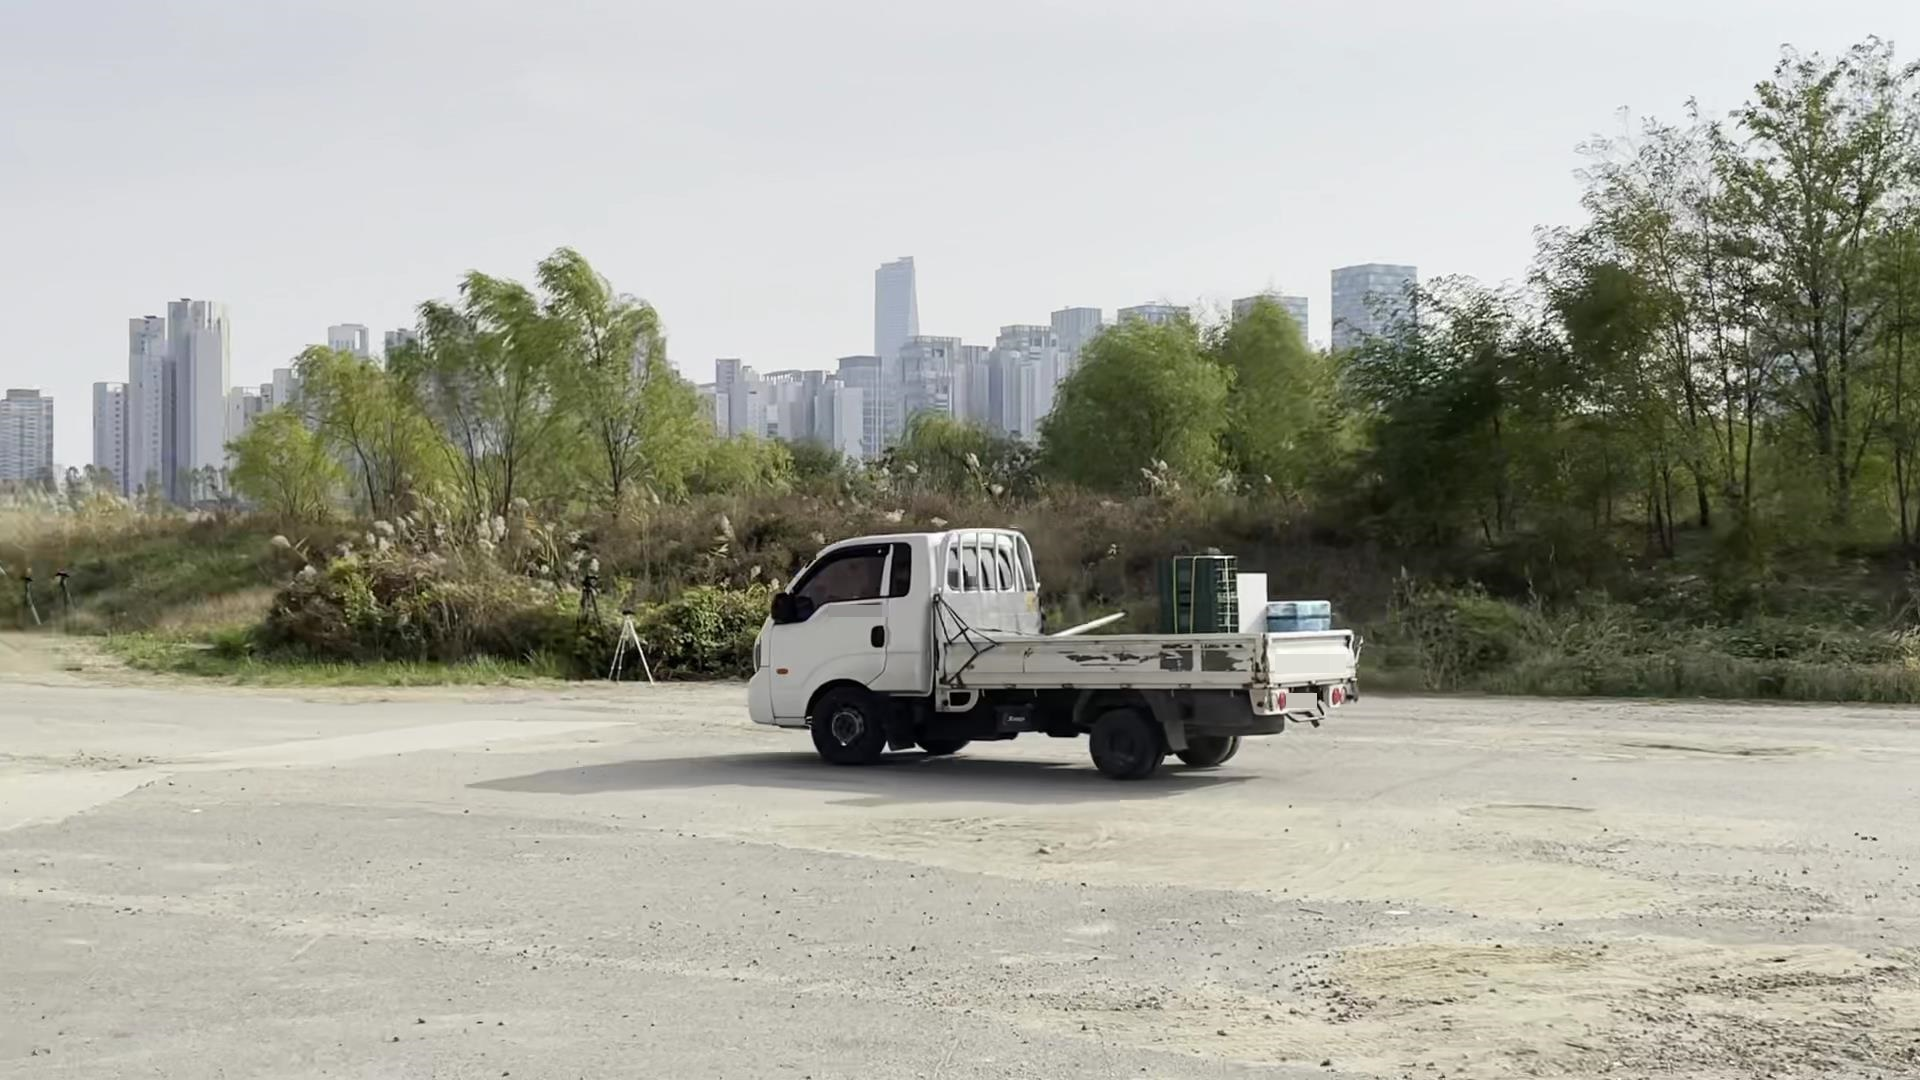불법차량: (748, 529, 1365, 781)
